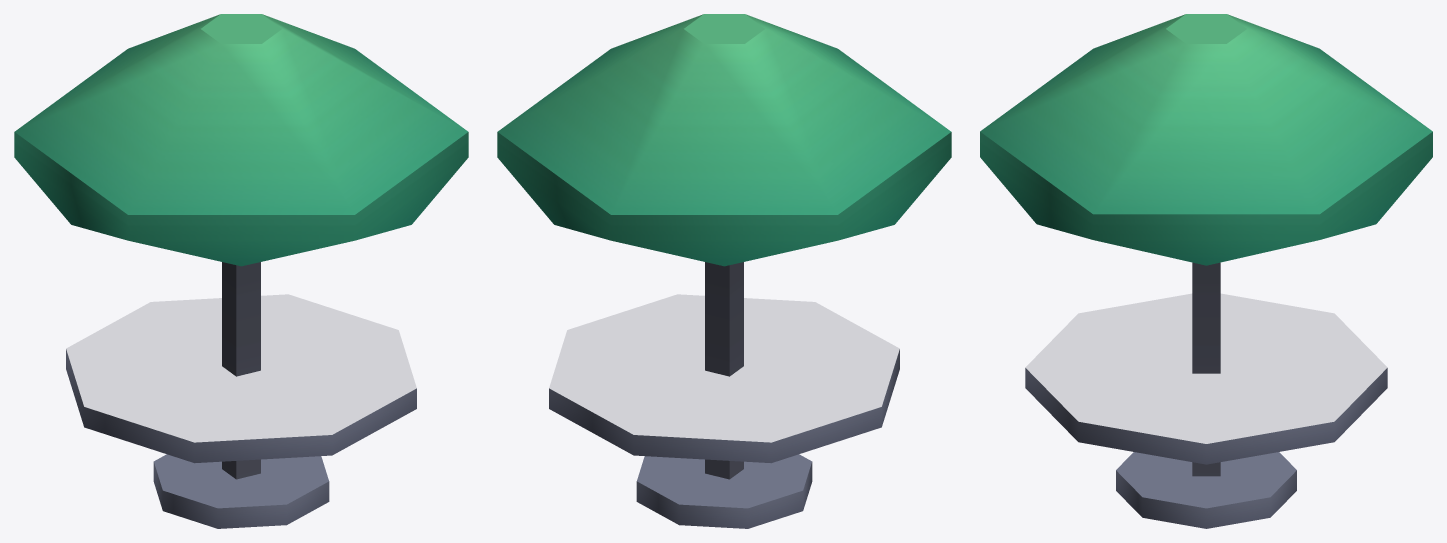
The model's file is detail-parasol-b.glb.
The picture shows the model from 3 angles, left to right: view 1: azimuth 30°, elevation 25°; view 2: azimuth 150°, elevation 25°; view 3: azimuth 270°, elevation 25°; orthographic projection.
Parts seen in each view (by area): view 1: detail-parasol-b; view 2: detail-parasol-b; view 3: detail-parasol-b.
Boxes of the visible parts, left/top/right/bottom form: detail-parasol-b: left=14, top=14, right=468, bottom=528; detail-parasol-b: left=497, top=14, right=951, bottom=528; detail-parasol-b: left=980, top=14, right=1432, bottom=528.
Bounding box in the file's own units: 0.3464 × 0.45 × 0.4.
1 material, 1 textured.
